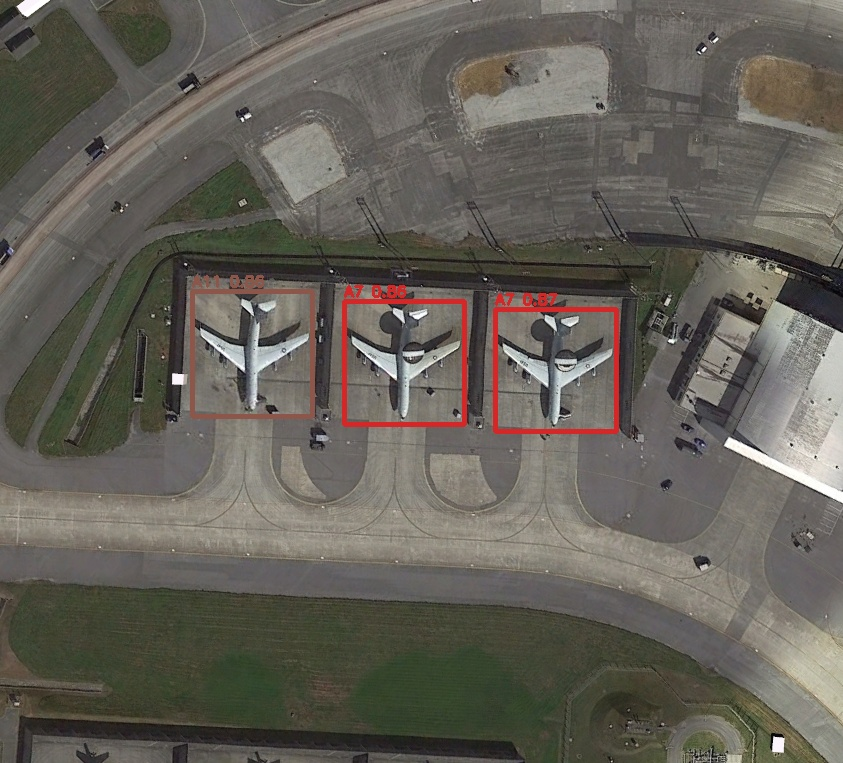A11: (192, 291, 312, 416)
A7: (495, 309, 616, 431), (344, 301, 464, 424)
